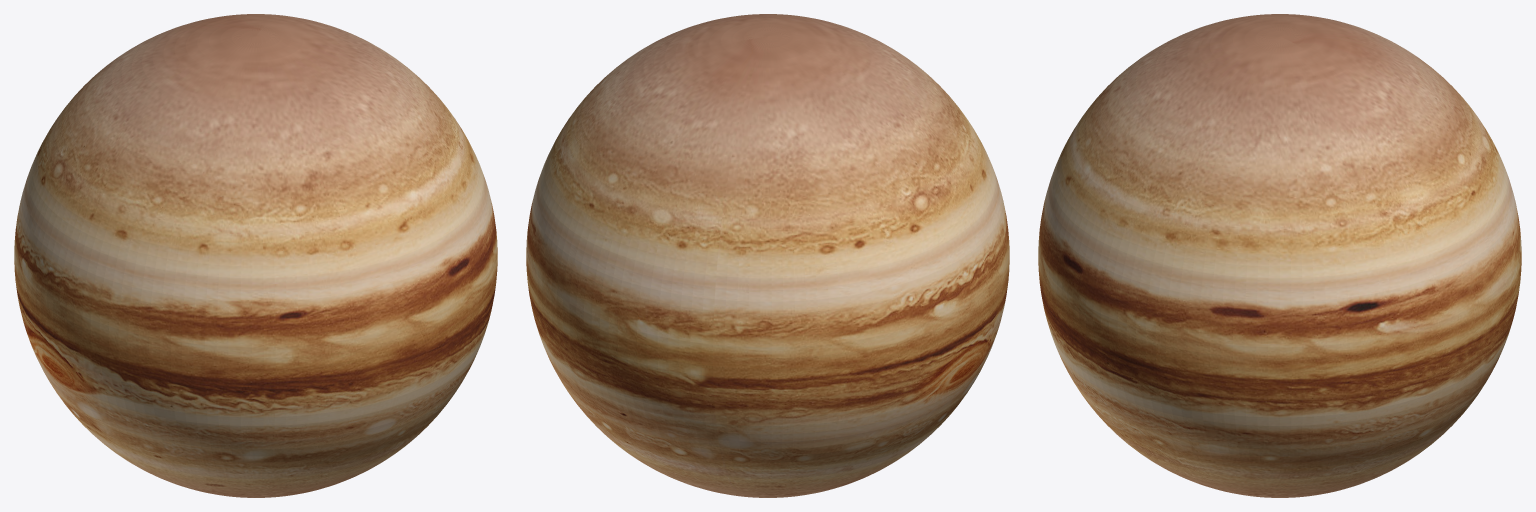
Rendered from jupiter.obj.
The picture shows the model from 3 angles, left to right: view 1: azimuth 30°, elevation 25°; view 2: azimuth 150°, elevation 25°; view 3: azimuth 270°, elevation 25°; orthographic projection.
Parts seen in each view (by area): view 1: Sphere; view 2: Sphere; view 3: Sphere.
Boxes of the visible parts, x1=… form: Sphere: x1=14, y1=14, x2=497, y2=497; Sphere: x1=526, y1=14, x2=1009, y2=497; Sphere: x1=1038, y1=14, x2=1521, y2=497.
Bounding box in the file's own units: 2 × 2 × 2.
Materials: 1 (1 with a texture image).
